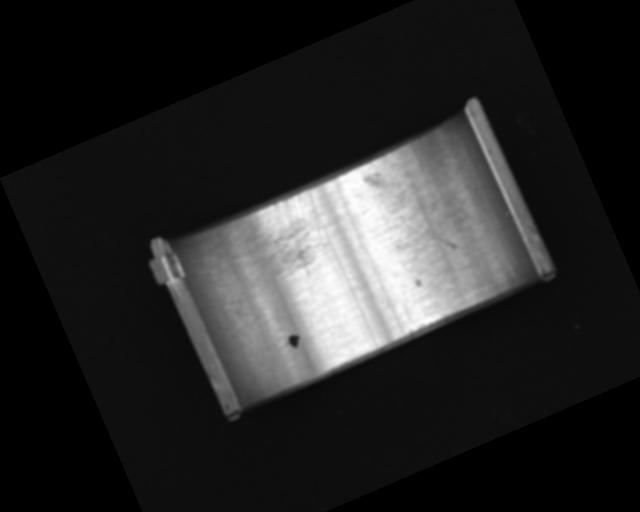blot: (285, 332, 304, 351)
bruise: (361, 166, 392, 196), (412, 277, 424, 290)
nick: (400, 198, 457, 263)
scratch: (200, 187, 342, 309)
